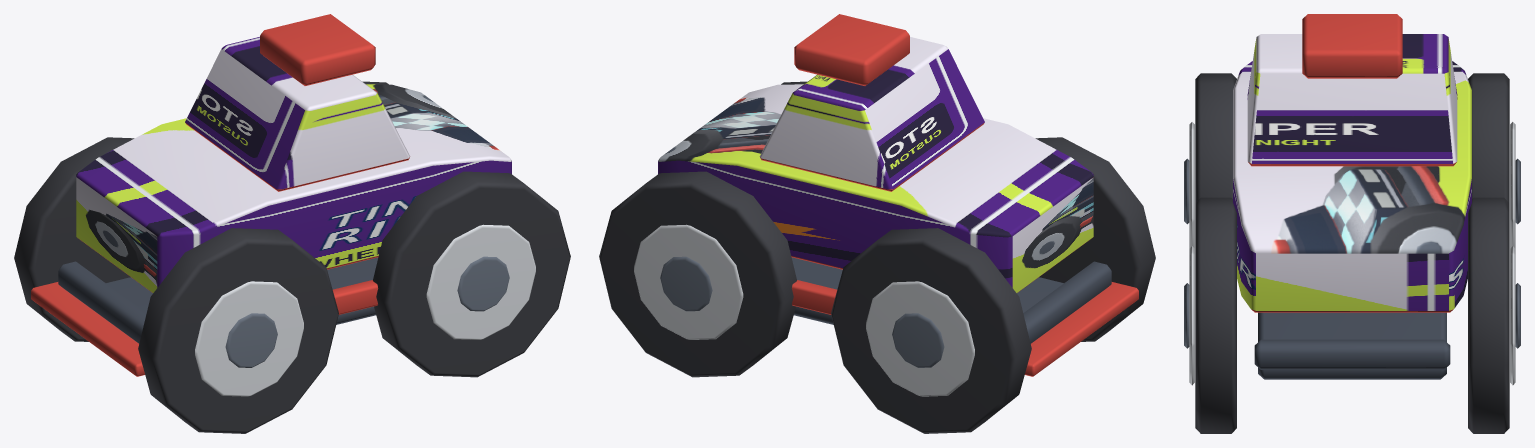
3 renders of one model, left to right at view 1: azimuth 30°, elevation 25°; view 2: azimuth 150°, elevation 25°; view 3: azimuth 270°, elevation 25°, orthographic. The views are drawn at different scales.
Visible parts, largest first — view 1: BW-03_connected_shell, Tire, Tire.002, BW-03_cabin, Tire.001, Rim.002, Rim, custom equipment, custom chin, front bumper, Hub.002, Hub (+2 smaller); view 2: BW-03_connected_shell, Tire.001, Tire.003, BW-03_cabin, Tire, Rim.003, Rim.001, custom equipment, custom chin, front bumper, Hub.003, Hub.001 (+2 smaller); view 3: BW-03_connected_shell, BW-03_cabin, Tire.002, Tire.003, underbody, custom equipment, rear bumper, Tire, Tire.001, Rim.002, Rim.003, Rim (+5 smaller).
Boxes of the visible parts, box(x1,y1,x2,y2) form: BW-03_connected_shell: box(76, 84, 511, 292); Tire: box(138, 228, 338, 433); Tire.002: box(373, 171, 570, 377); BW-03_cabin: box(185, 37, 410, 191); Tire.001: box(14, 137, 134, 341); Rim.002: box(426, 224, 535, 339); Rim: box(195, 281, 303, 396); custom equipment: box(260, 14, 375, 85); custom chin: box(31, 282, 144, 376); front bumper: box(58, 261, 146, 343); Hub.002: box(457, 256, 509, 311); Hub: box(225, 313, 277, 367); BW-03_connected_shell: box(658, 84, 1093, 292); Tire.001: box(831, 228, 1031, 433); Tire.003: box(599, 171, 796, 377); BW-03_cabin: box(759, 37, 984, 191); Tire: box(1035, 137, 1155, 341); Rim.003: box(634, 224, 743, 339); Rim.001: box(866, 281, 974, 396); custom equipment: box(794, 14, 909, 85); custom chin: box(1025, 282, 1138, 376); front bumper: box(1023, 261, 1111, 343); Hub.003: box(660, 256, 712, 311); Hub.001: box(892, 313, 944, 367); BW-03_connected_shell: box(1233, 61, 1471, 312); BW-03_cabin: box(1247, 34, 1457, 166); Tire.002: box(1195, 197, 1236, 433); Tire.003: box(1468, 197, 1509, 433); underbody: box(1258, 312, 1446, 379); custom equipment: box(1302, 14, 1402, 78); rear bumper: box(1254, 339, 1450, 369); Tire: box(1195, 73, 1236, 202); Tire.001: box(1468, 73, 1509, 202); Rim.002: box(1189, 246, 1194, 385); Rim.003: box(1510, 246, 1515, 385); Rim: box(1189, 122, 1194, 248).
Bounding box in the file's own units: 332 × 236 × 210.
